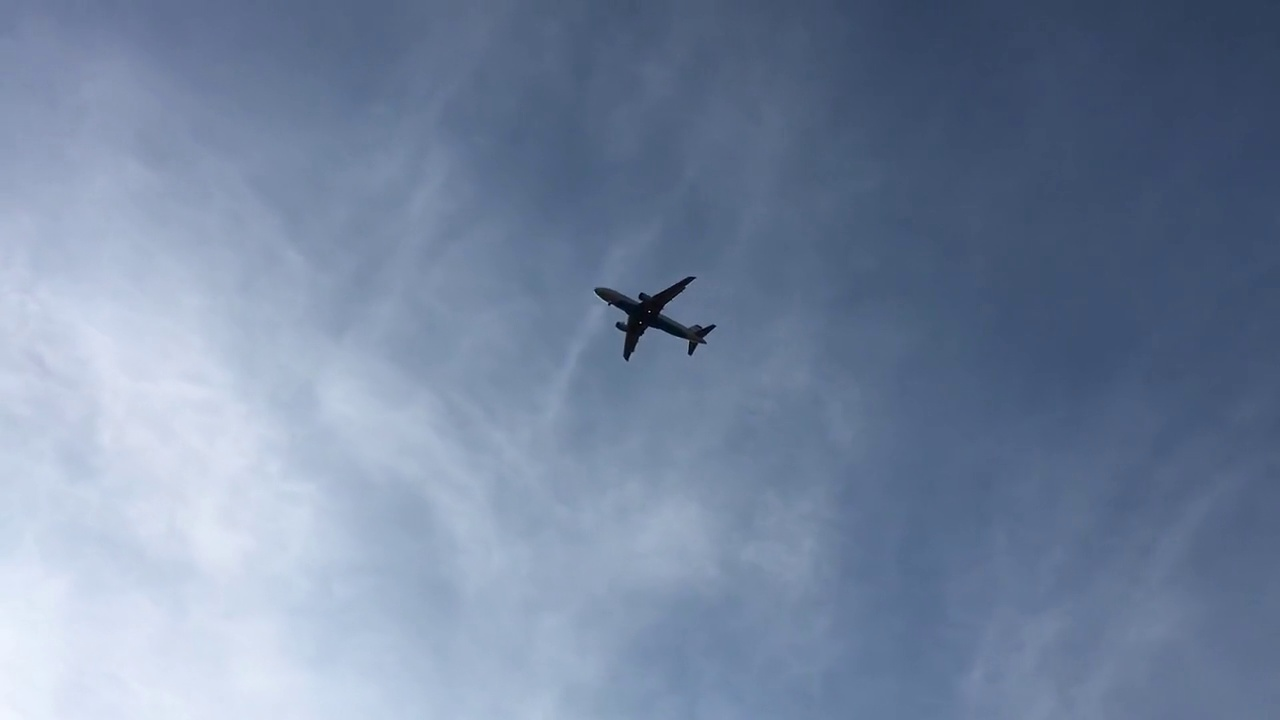plane: (593, 273, 715, 360)
